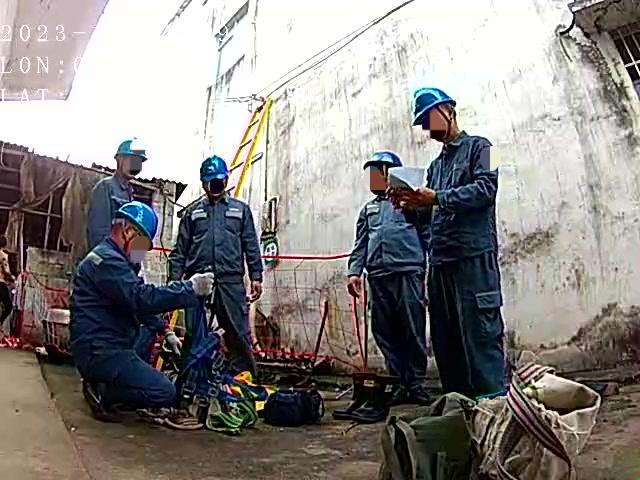halt: (111, 203, 162, 258), (415, 91, 464, 144), (363, 154, 405, 197), (115, 140, 150, 182), (201, 157, 233, 201)
inear: (119, 223, 144, 251), (440, 106, 460, 132)
